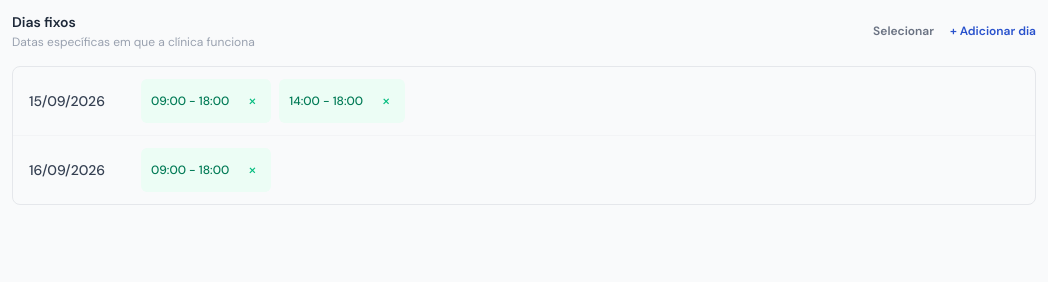
it: FixedDaysSection › nao permite excluir sem nenhuma data selecionada
Click the button "Selecionar".
click(904, 31)  # box [873,23,934,39]
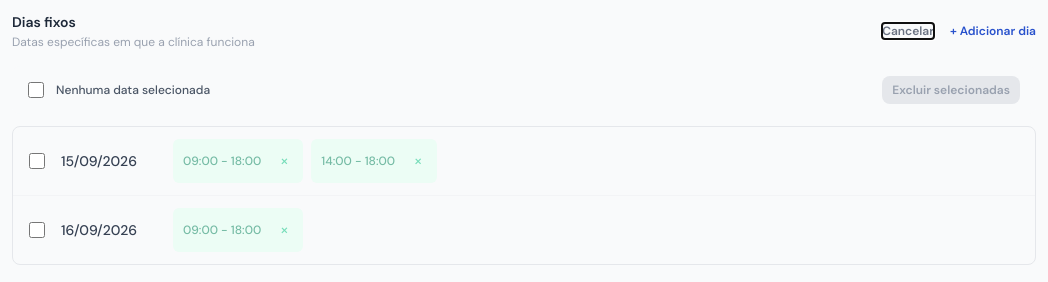
Check: the button "Excluir selecionadas" is disabled, box [882,76,1020,104]
